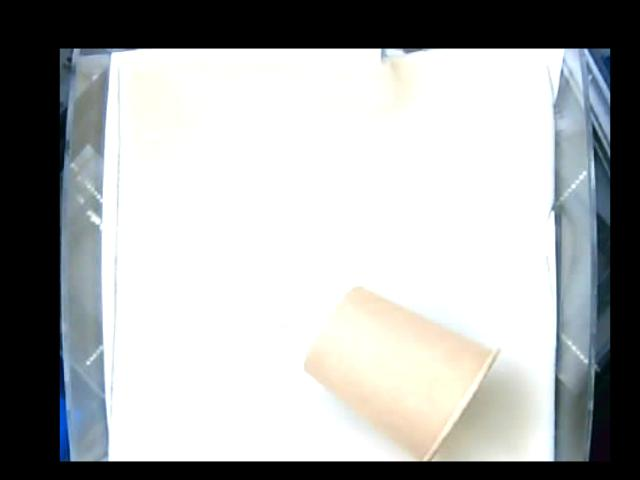Cup: (300, 285, 498, 460)
